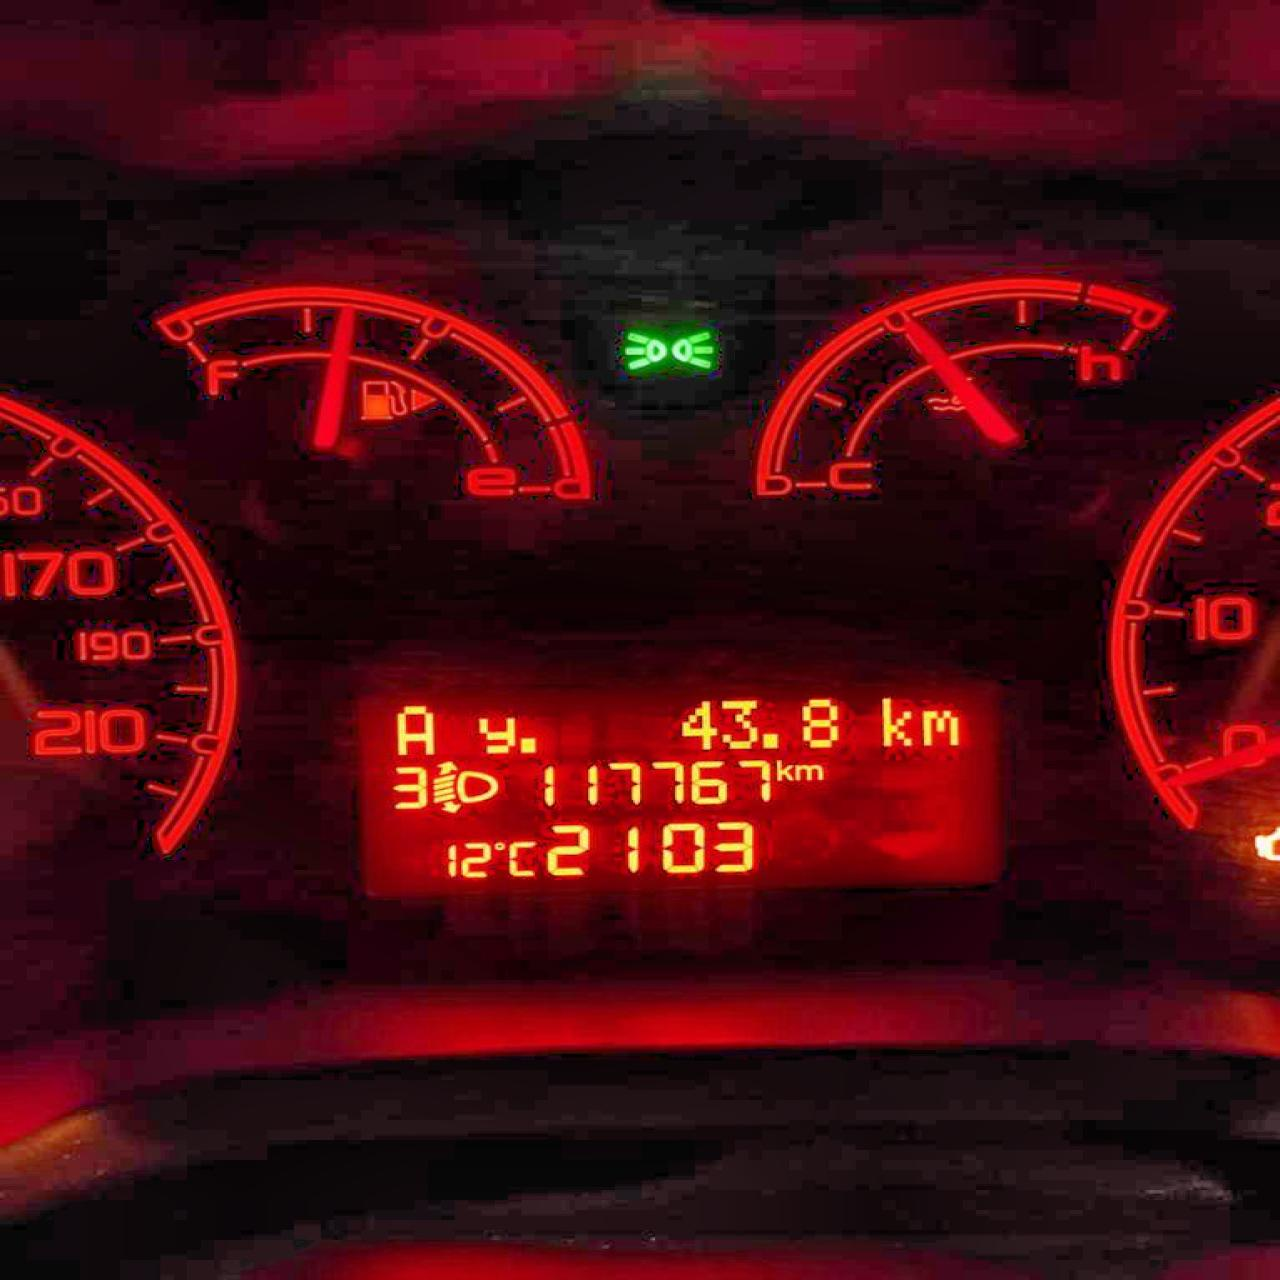-: (758, 728, 783, 751), (516, 733, 538, 754)
0: (656, 818, 706, 877)
1: (620, 821, 640, 880), (538, 761, 560, 813), (584, 757, 600, 809), (443, 839, 456, 880)
2: (545, 821, 592, 880), (459, 837, 490, 878)
3: (712, 817, 757, 872), (719, 695, 757, 749), (388, 762, 427, 812)
4: (678, 695, 717, 750)
6: (688, 757, 727, 808)
7: (730, 756, 772, 805), (605, 758, 642, 808), (648, 756, 683, 804)
8: (799, 695, 839, 750)
X: (393, 700, 441, 757), (879, 689, 915, 753), (918, 703, 961, 749), (475, 710, 517, 756), (506, 837, 538, 878), (792, 762, 828, 783), (775, 755, 794, 783)
odometer: (350, 676, 1005, 892)
